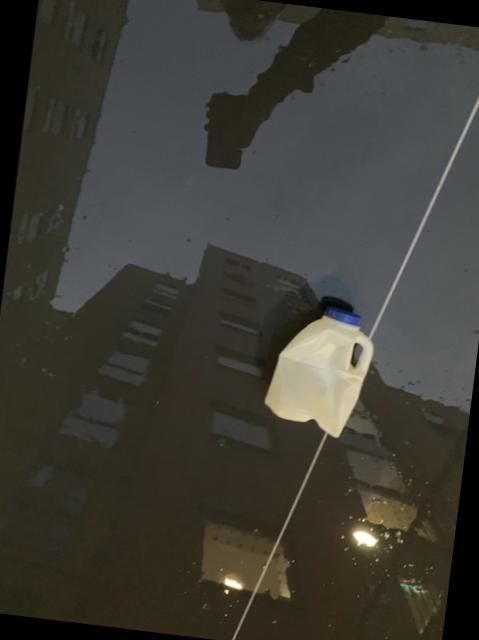plastic: (263, 307, 371, 438)
